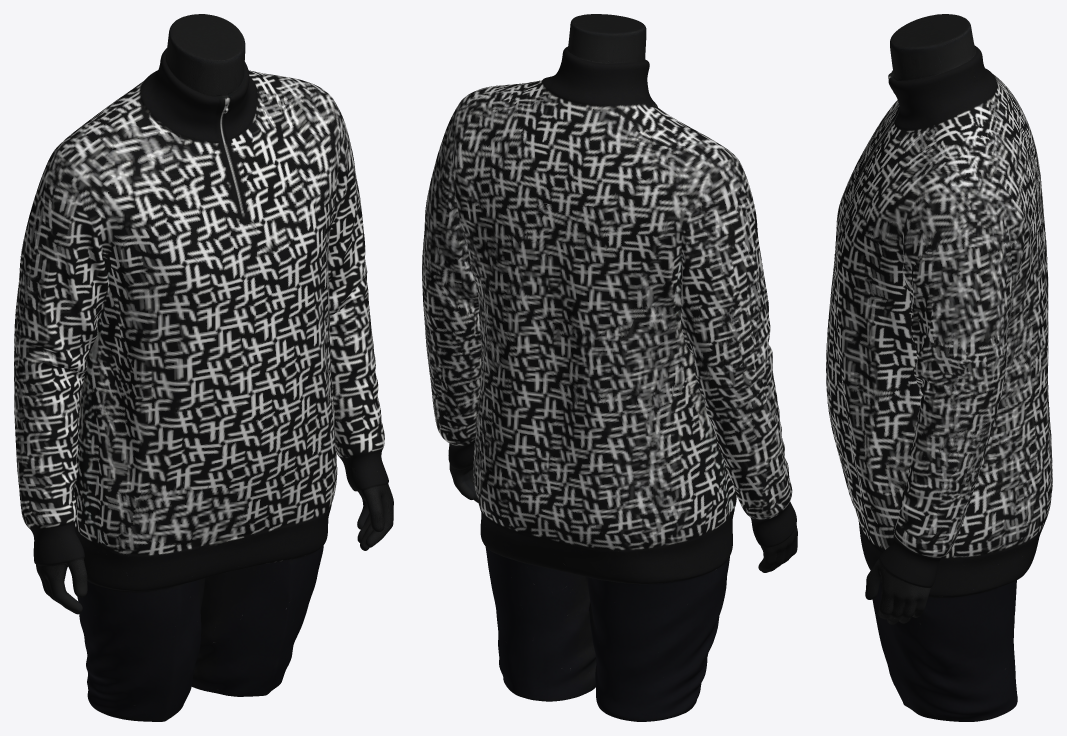
The model's file is 13-نقش-الريال.glb.
The picture shows the model from 3 angles, left to right: view 1: azimuth 30°, elevation 25°; view 2: azimuth 150°, elevation 25°; view 3: azimuth 270°, elevation 25°; orthographic projection.
Size of the model in its own units: 1.06 by 1.9 by 0.5936.
Materials: 1 (1 with a texture image).
